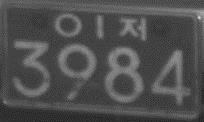0: (53, 12, 82, 38)
1: (88, 13, 111, 40)
3: (12, 40, 51, 97)
4: (150, 48, 191, 106)
8: (103, 46, 145, 103)
9: (57, 42, 98, 102)
저: (118, 16, 148, 41)
